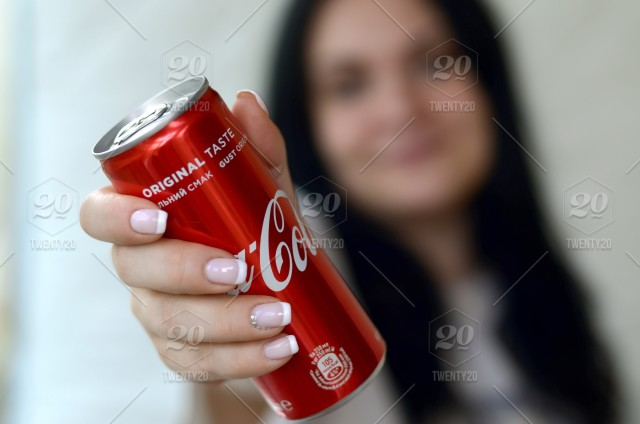coke: (91, 73, 387, 421)
